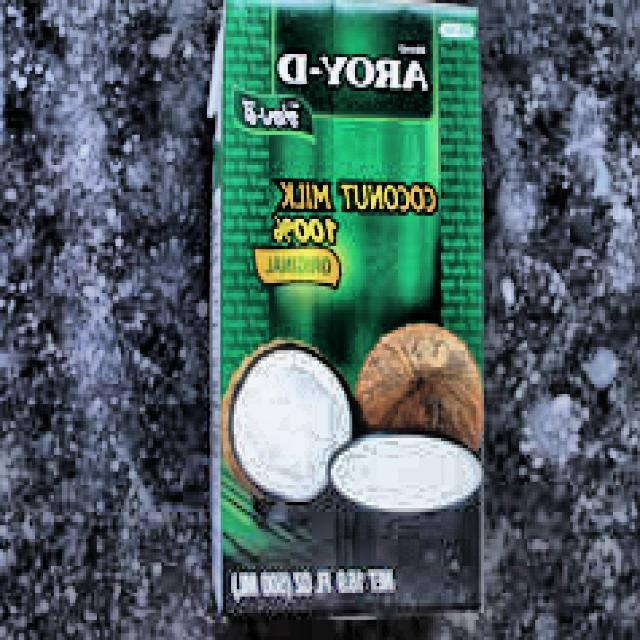cardboard: (210, 0, 487, 616)
